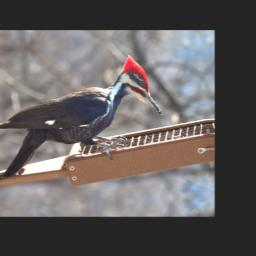Woodpecker: (0, 51, 169, 187)
